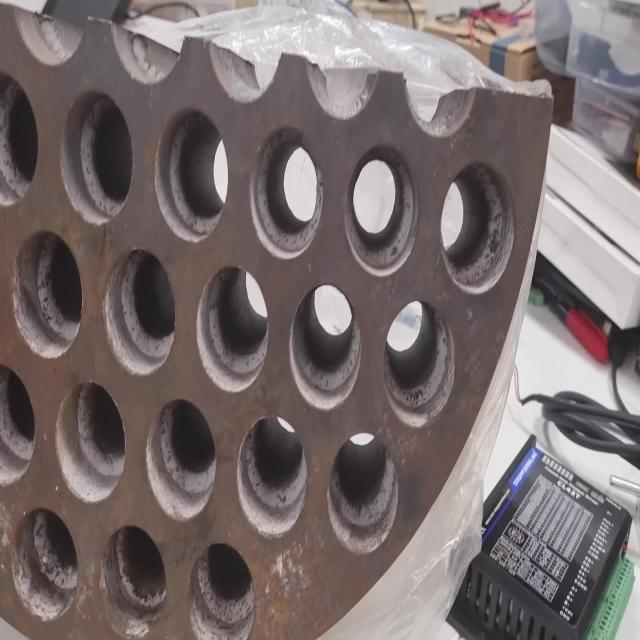Hole: (440, 158, 516, 295), (154, 105, 229, 243), (343, 141, 418, 276), (60, 88, 133, 226), (250, 123, 324, 259), (102, 246, 176, 376), (12, 228, 84, 359), (289, 282, 362, 411), (196, 263, 268, 393), (383, 299, 456, 427), (54, 378, 126, 504), (327, 432, 399, 556), (236, 414, 308, 538), (146, 396, 217, 521), (100, 522, 167, 639), (13, 504, 79, 621), (189, 540, 256, 640), (0, 67, 40, 206), (0, 360, 37, 488)
